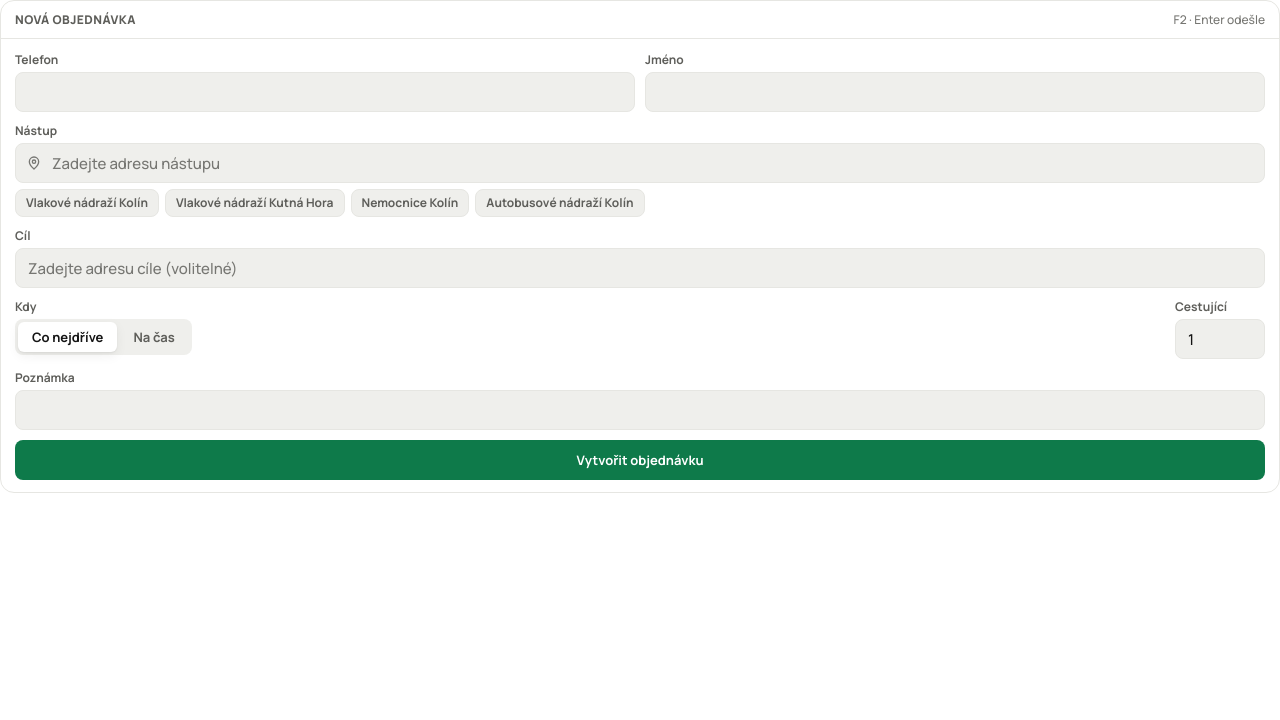
Scenario: OrderForm — enriched suggestions (AC#2) › renders street + municipality under each suggestion so same-named places differ
In the dropdown labelled "Nástup": (652, 163) [50,144,1254,182], type "Náměstí"
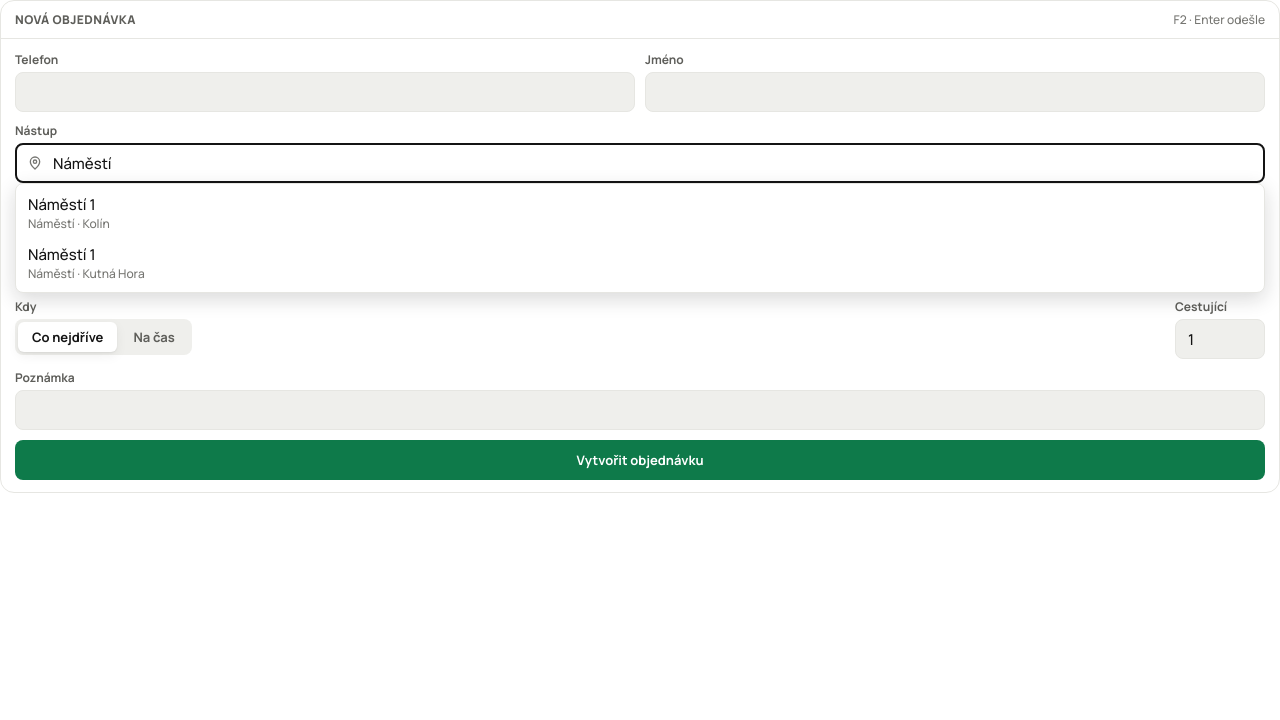
Expected: the option "Náměstí 1 Náměstí · Kolín" is shown, [28,194,110,232]
Expected: the option "Náměstí 1 Náměstí · Kutná Hora" is shown, [28,244,145,282]
